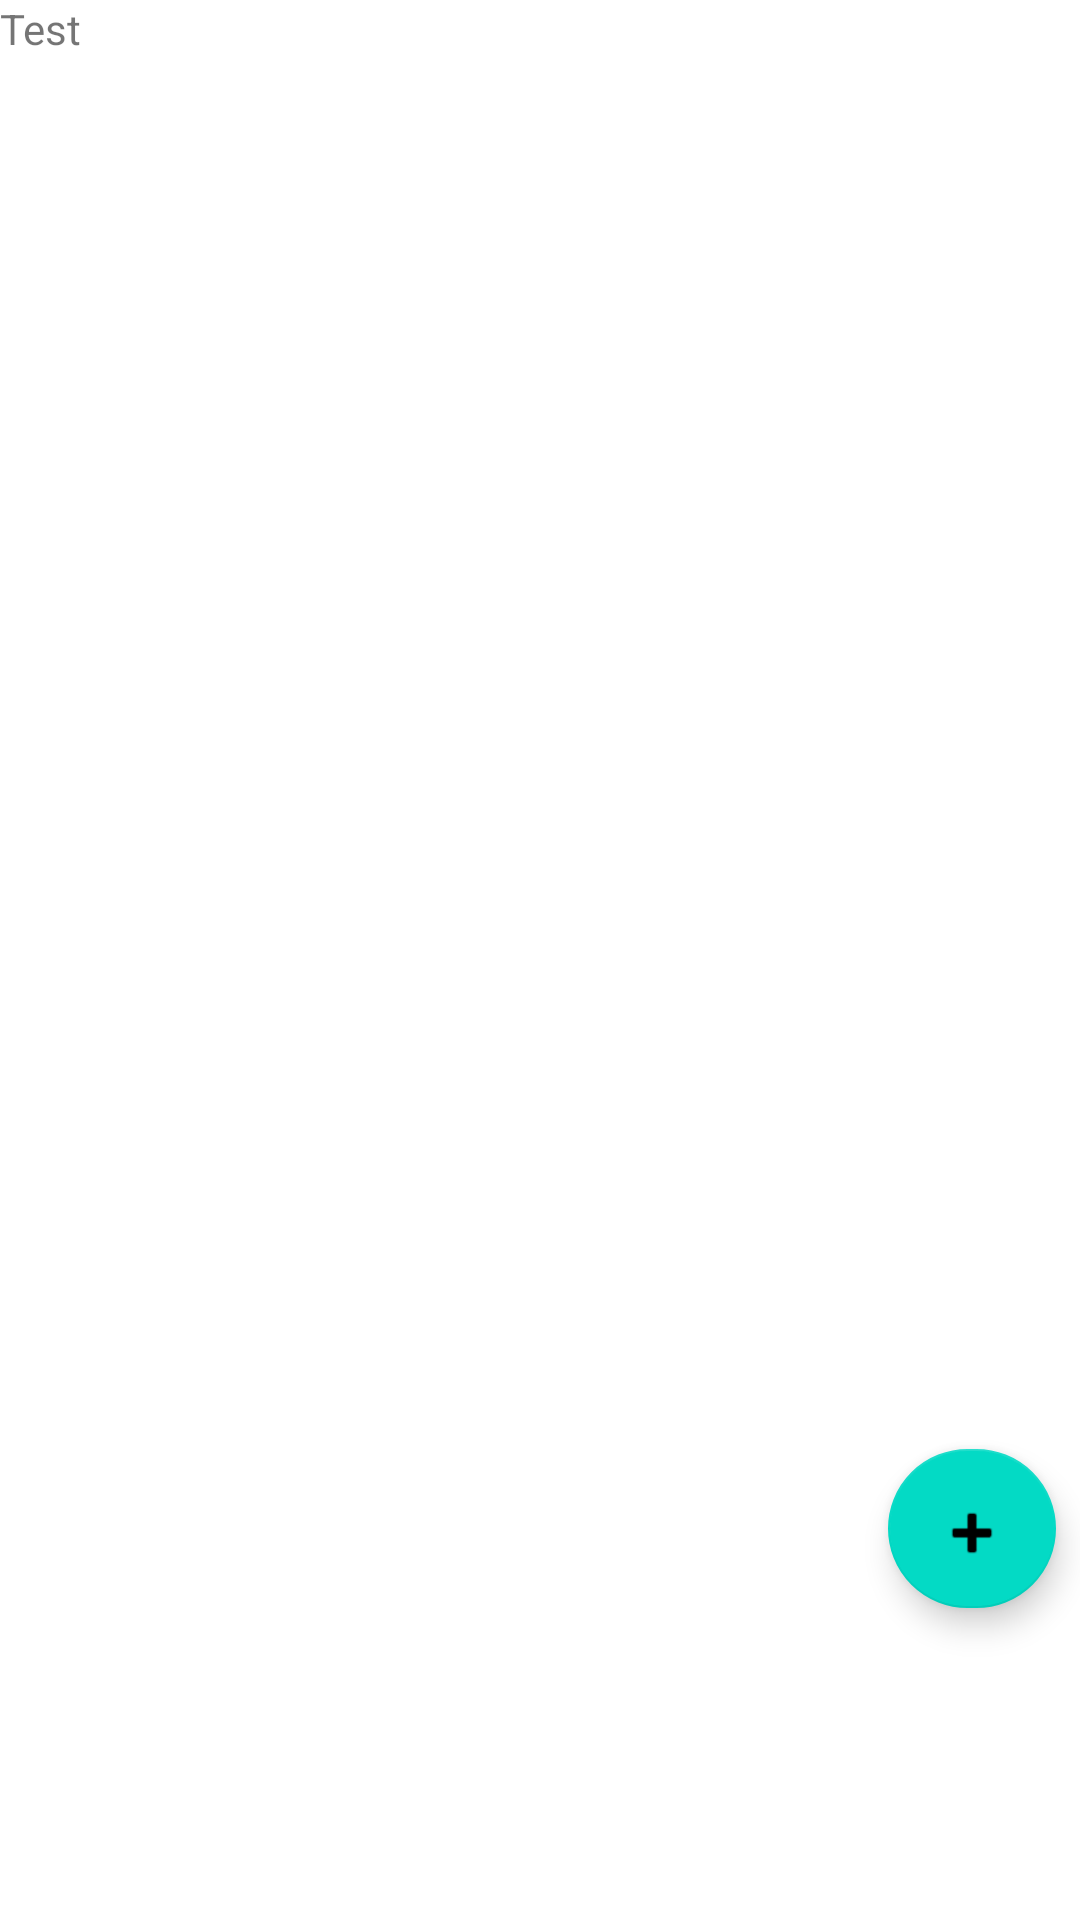

Named icons in this screenshot (1080w x 1920h) and their bounding boxes, (x1,y1,x2,y2):
add: (888,1449,1056,1608)
